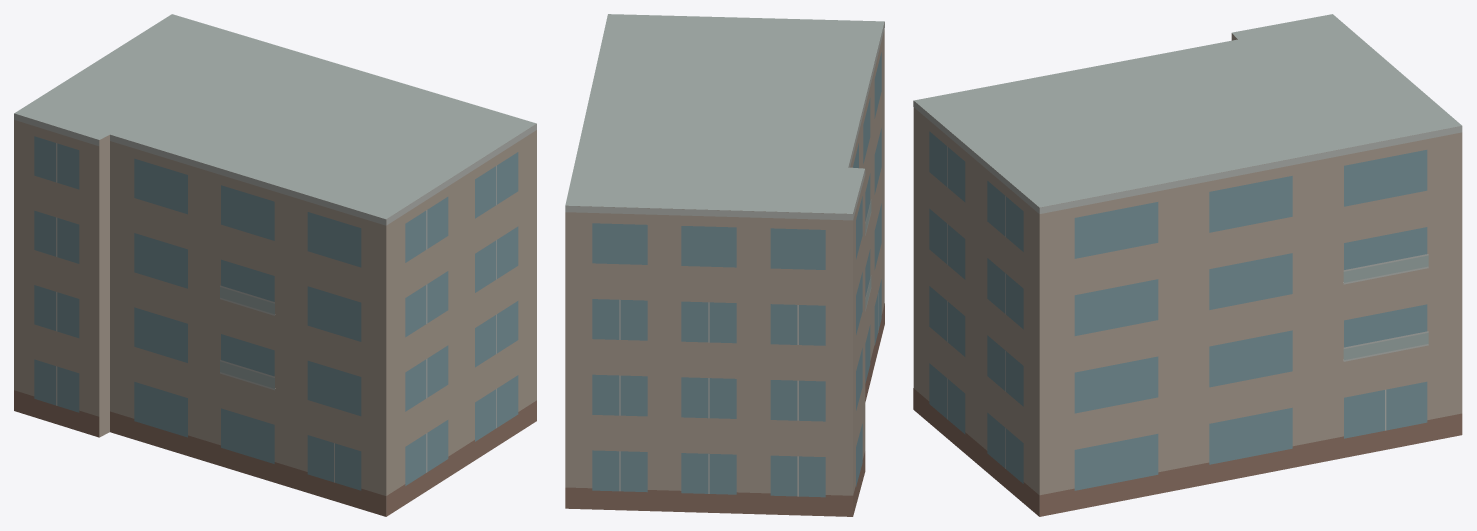
Rendered from survey-upis-32485632.glb.
The picture shows the model from 3 angles, left to right: view 1: azimuth 30°, elevation 25°; view 2: azimuth 150°, elevation 25°; view 3: azimuth 270°, elevation 25°; orthographic projection. The views are drawn at different scales.
Parts seen in each view (by area): view 1: survey-upis-32485632.tmp; view 2: survey-upis-32485632.tmp; view 3: survey-upis-32485632.tmp.
Boxes of the visible parts, left/top/right/bottom form: survey-upis-32485632.tmp: left=14, top=14, right=536, bottom=516; survey-upis-32485632.tmp: left=565, top=14, right=884, bottom=516; survey-upis-32485632.tmp: left=913, top=14, right=1462, bottom=516.
Size of the model in its own units: 15.31 by 11.4 by 18.34.
